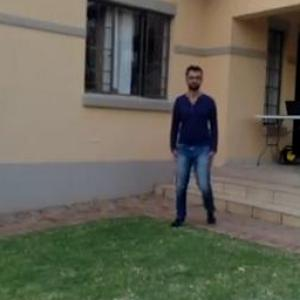follow: (168, 56, 220, 239)
